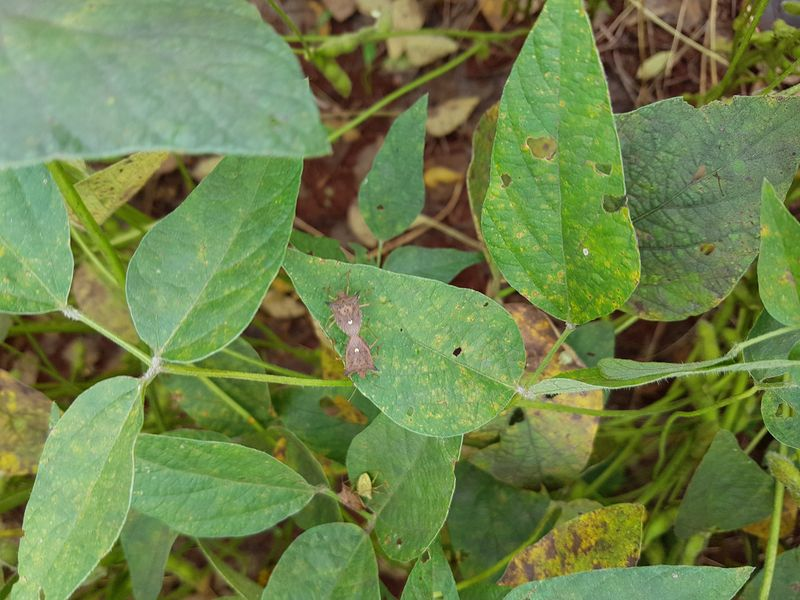Euschistus_heros_adulto: (321, 335, 392, 404), (308, 279, 375, 334), (333, 481, 357, 514)
Euschistus_heros_ninfa: (357, 467, 388, 500)
